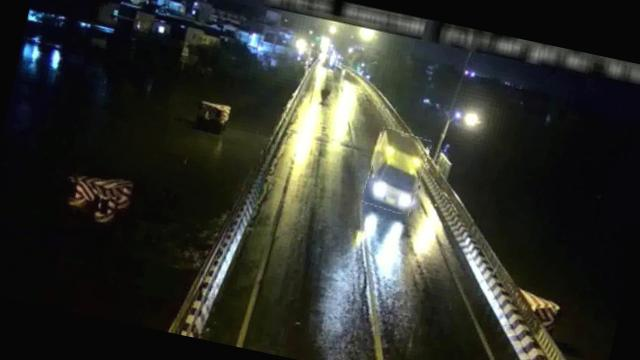Truck: (361, 127, 430, 216)
